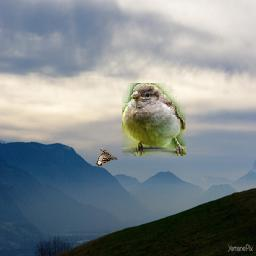Sparrow: (122, 84, 186, 157), (96, 148, 119, 166)
